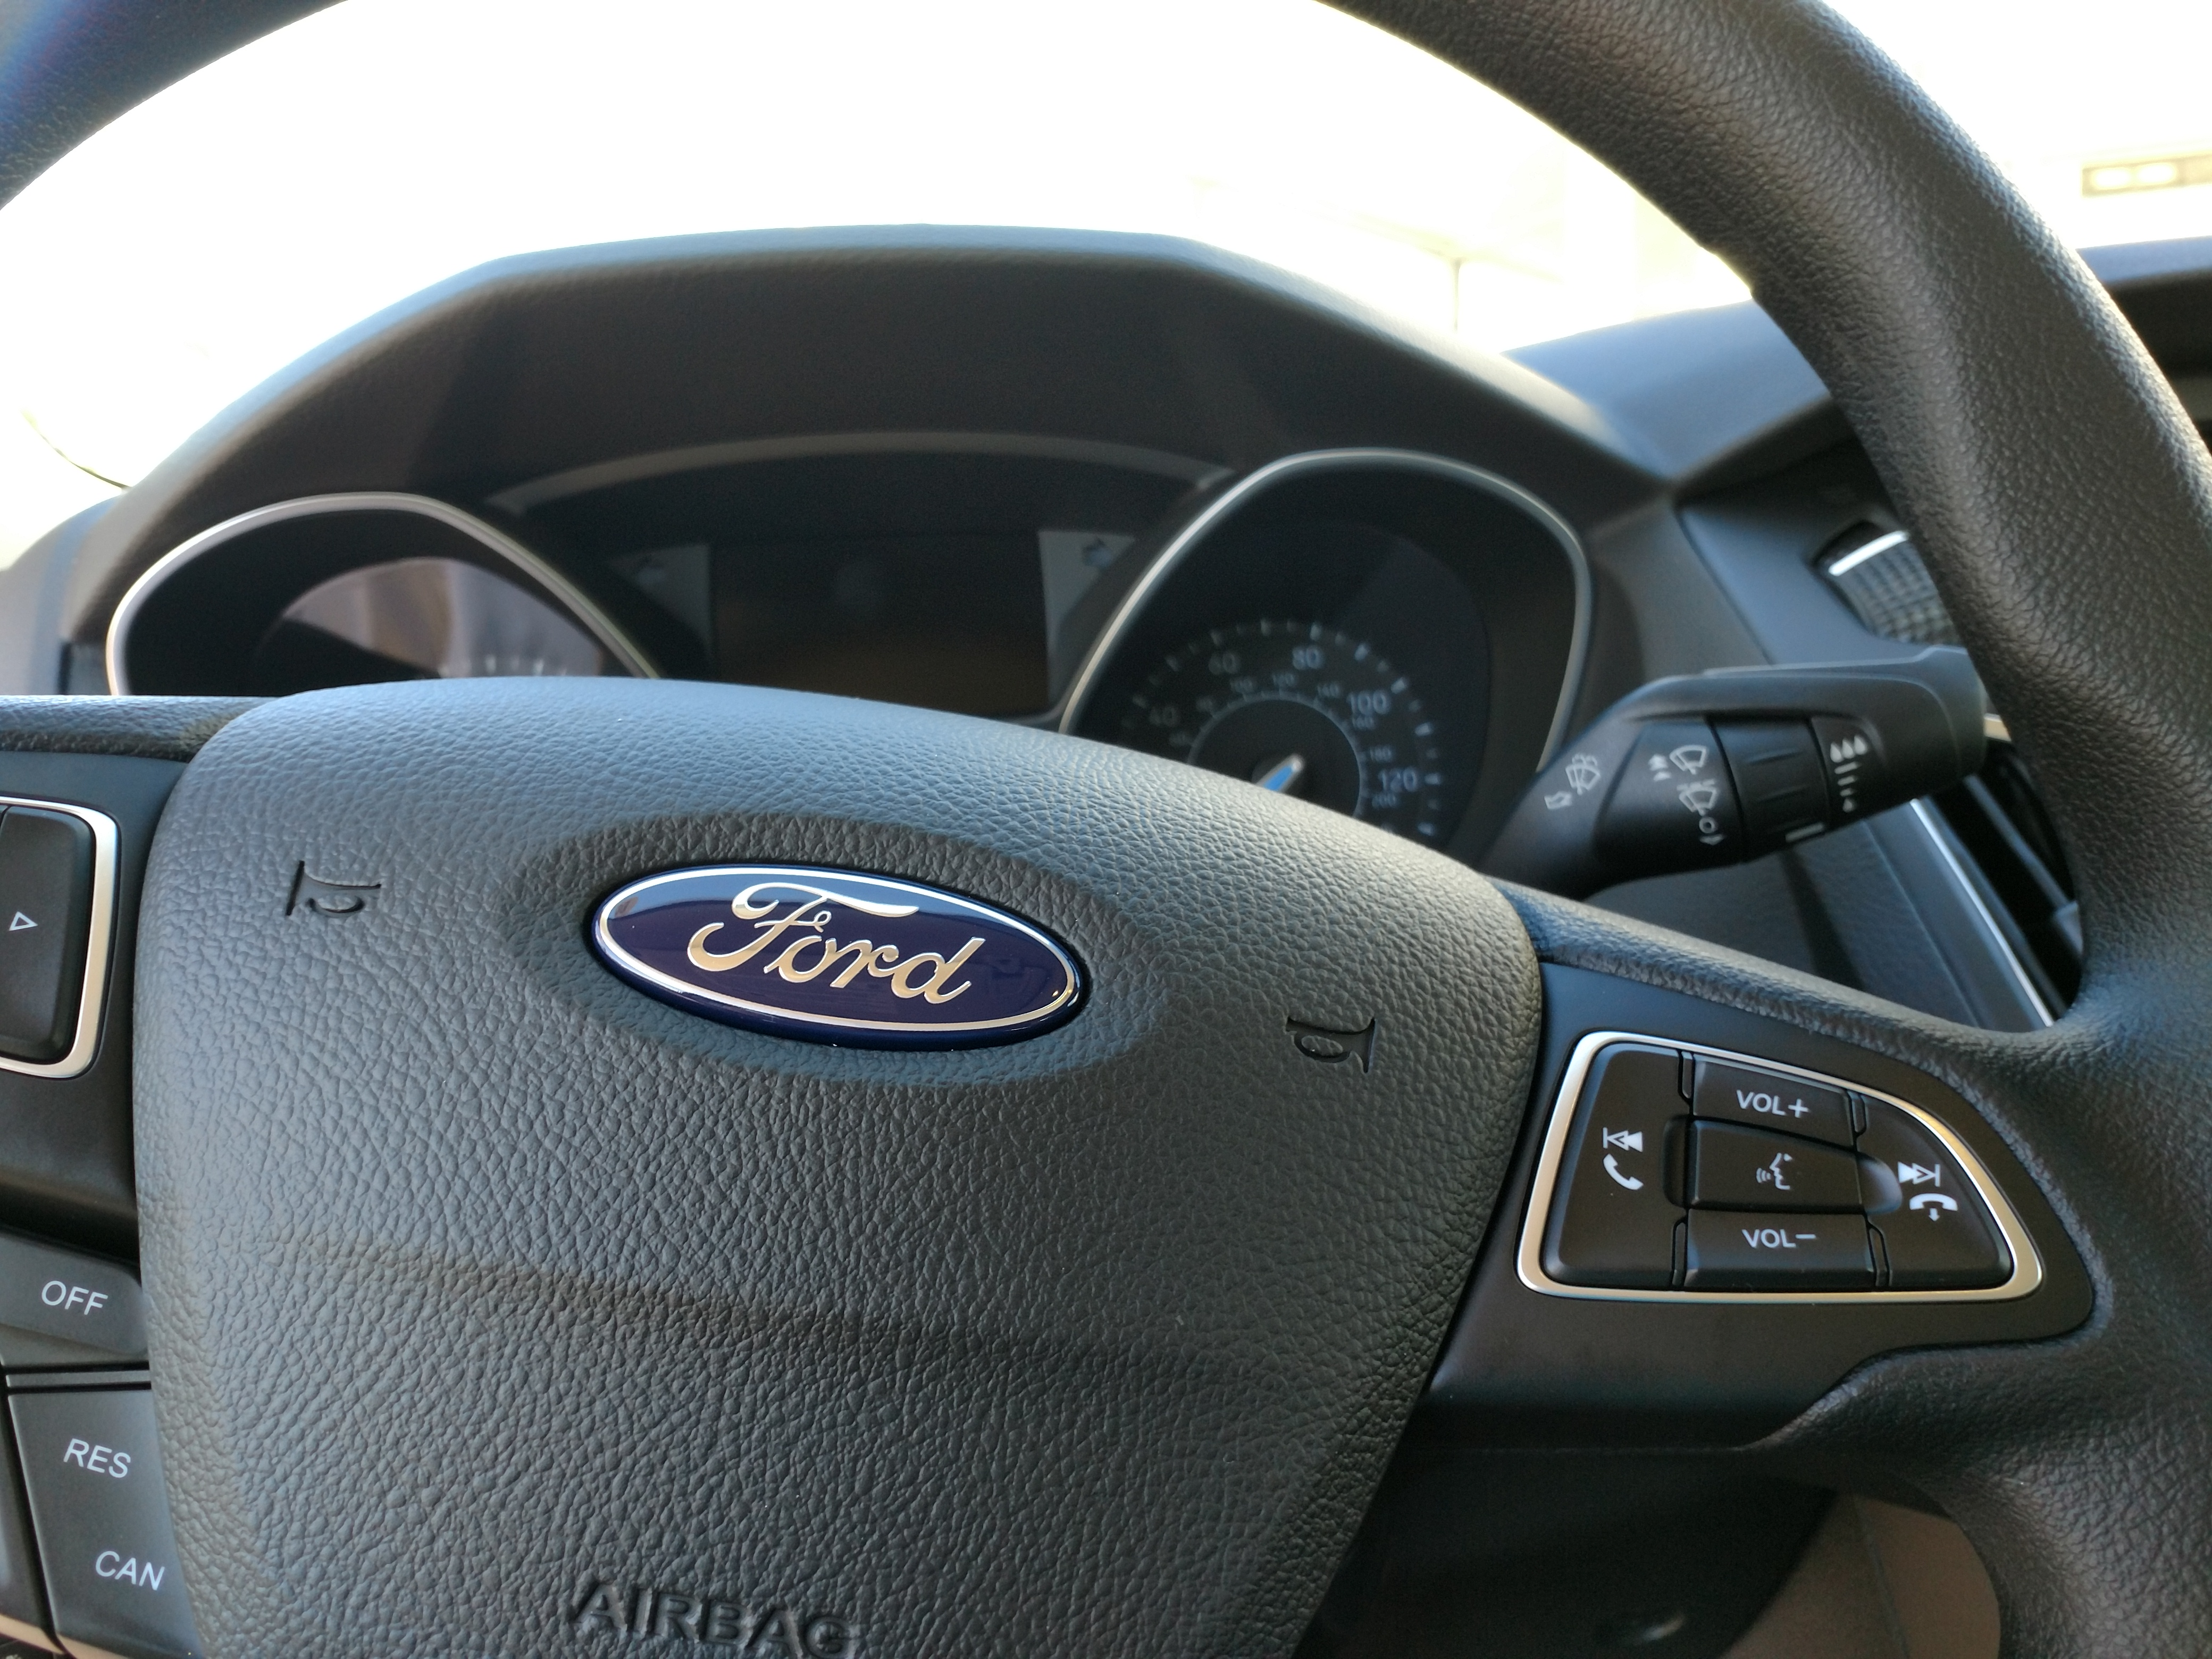Ford: (571, 847, 1104, 1066)
